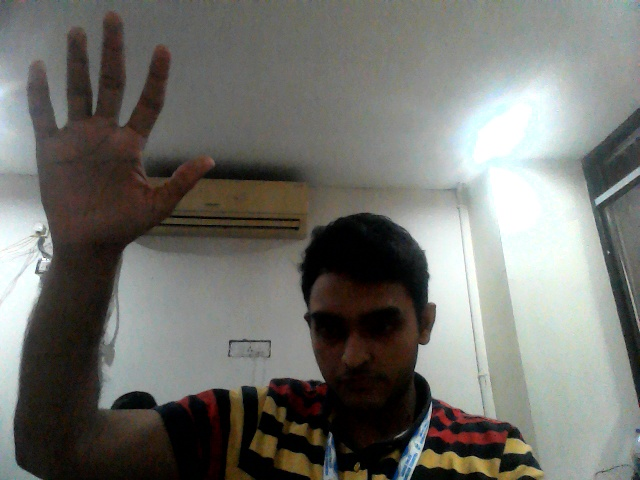palm: (23, 8, 215, 265)
